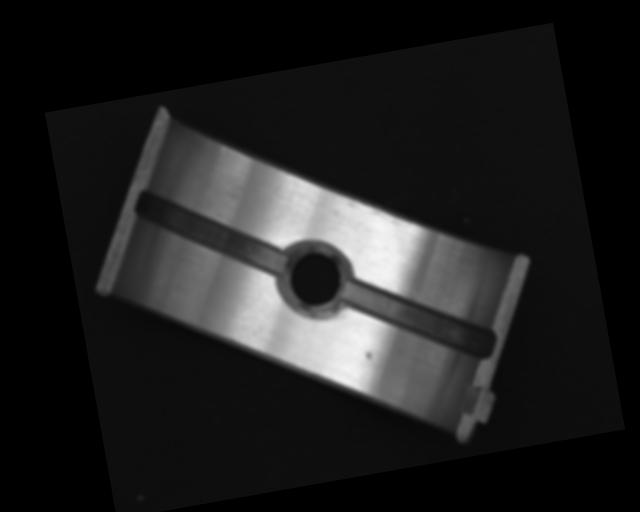bruise: (363, 351, 373, 362)
gap: (132, 169, 288, 297), (341, 256, 499, 380)
hole: (277, 239, 349, 319)
